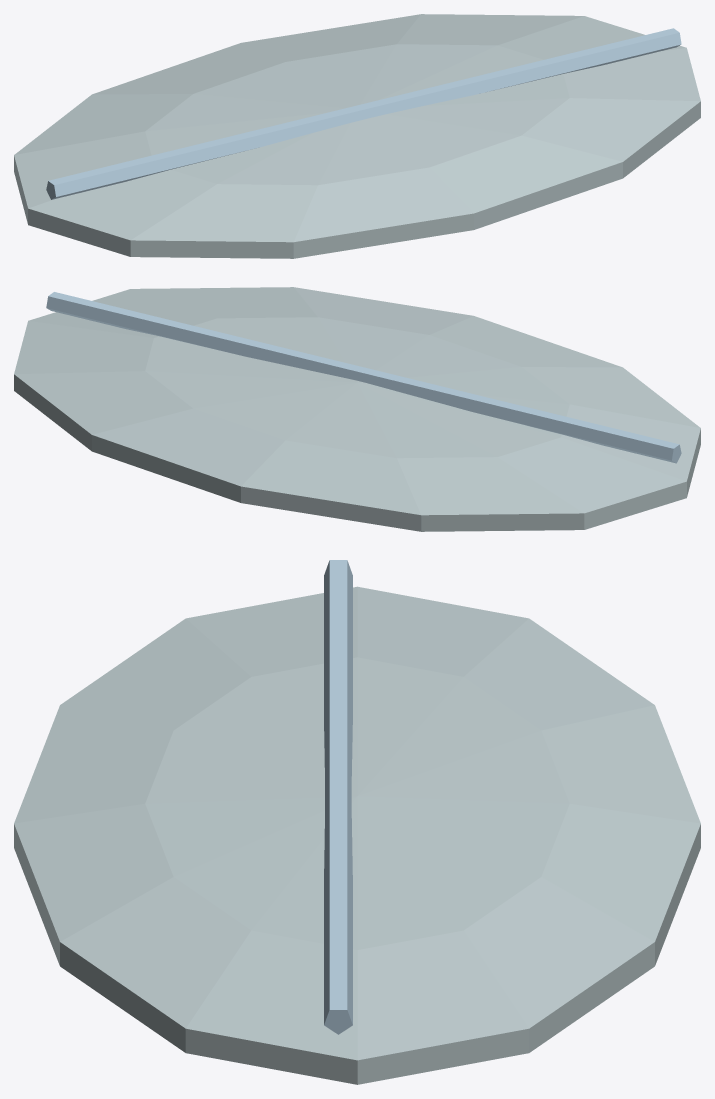
File: avispa_ala.glb
The picture shows the model from 3 angles, top to bottom: view 1: azimuth 30°, elevation 25°; view 2: azimuth 150°, elevation 25°; view 3: azimuth 270°, elevation 25°; orthographic projection. The views are drawn at different scales.
Parts seen in each view (by area): view 1: avispa_ala; view 2: avispa_ala; view 3: avispa_ala.
Part boxes in pixels (<box>): avispa_ala: <box>14,14,700,258</box>; avispa_ala: <box>14,287,700,531</box>; avispa_ala: <box>14,560,700,1084</box>.
Bounding box in the file's own units: 0.5897 × 0.0525 × 0.3614.
